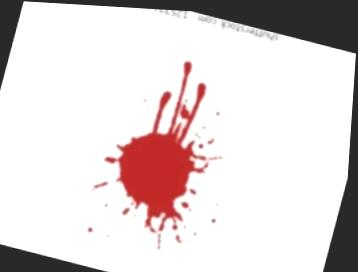Fire: (105, 59, 211, 233)
